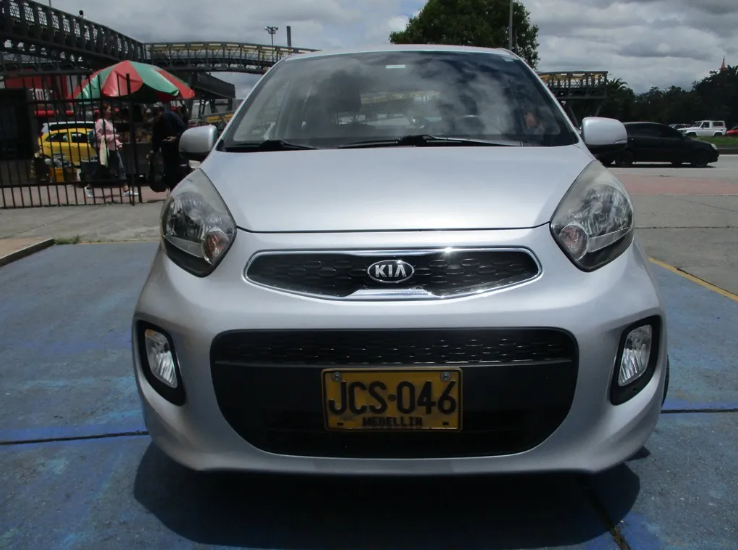placa: (323, 370, 463, 431)
